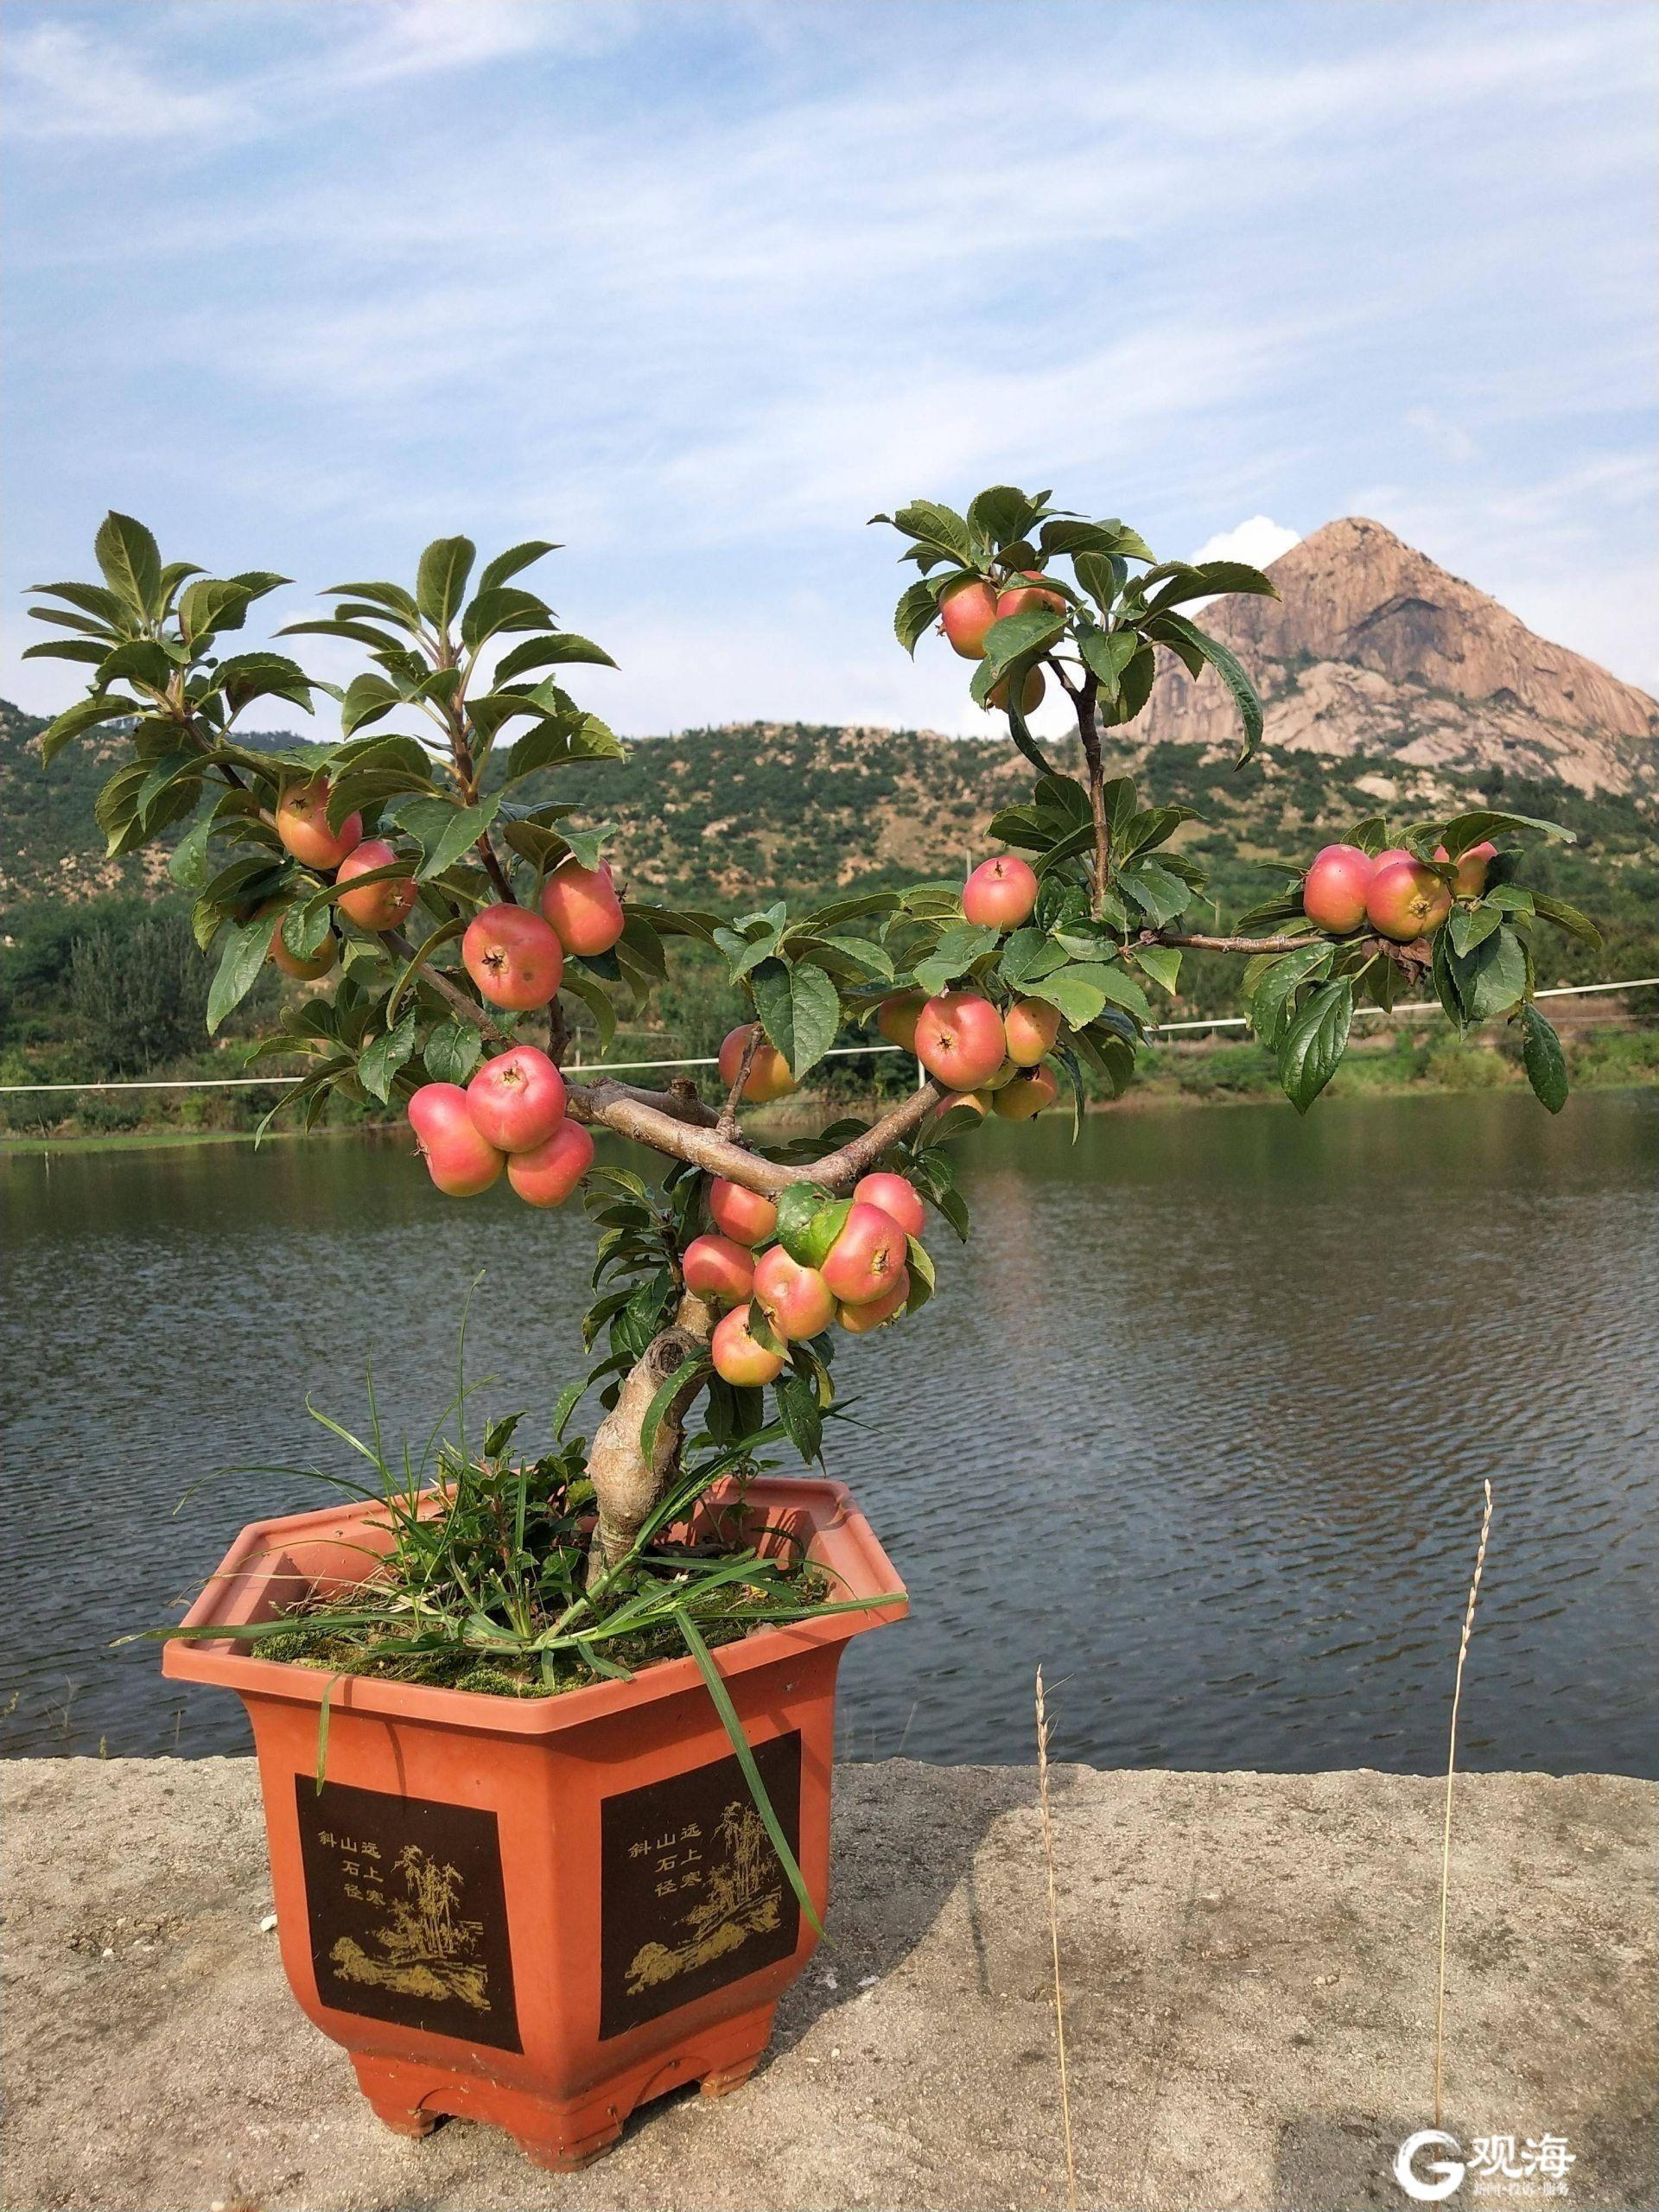apple: (460, 902, 565, 1008), (465, 1043, 566, 1153), (406, 1083, 502, 1197), (911, 991, 1007, 1090), (823, 1204, 904, 1303), (540, 862, 629, 951), (277, 777, 361, 869), (511, 1118, 596, 1207), (721, 1017, 805, 1104), (338, 840, 418, 928), (1368, 859, 1455, 939), (711, 1303, 793, 1386), (960, 852, 1039, 932), (1302, 846, 1370, 934), (681, 1235, 753, 1310)
